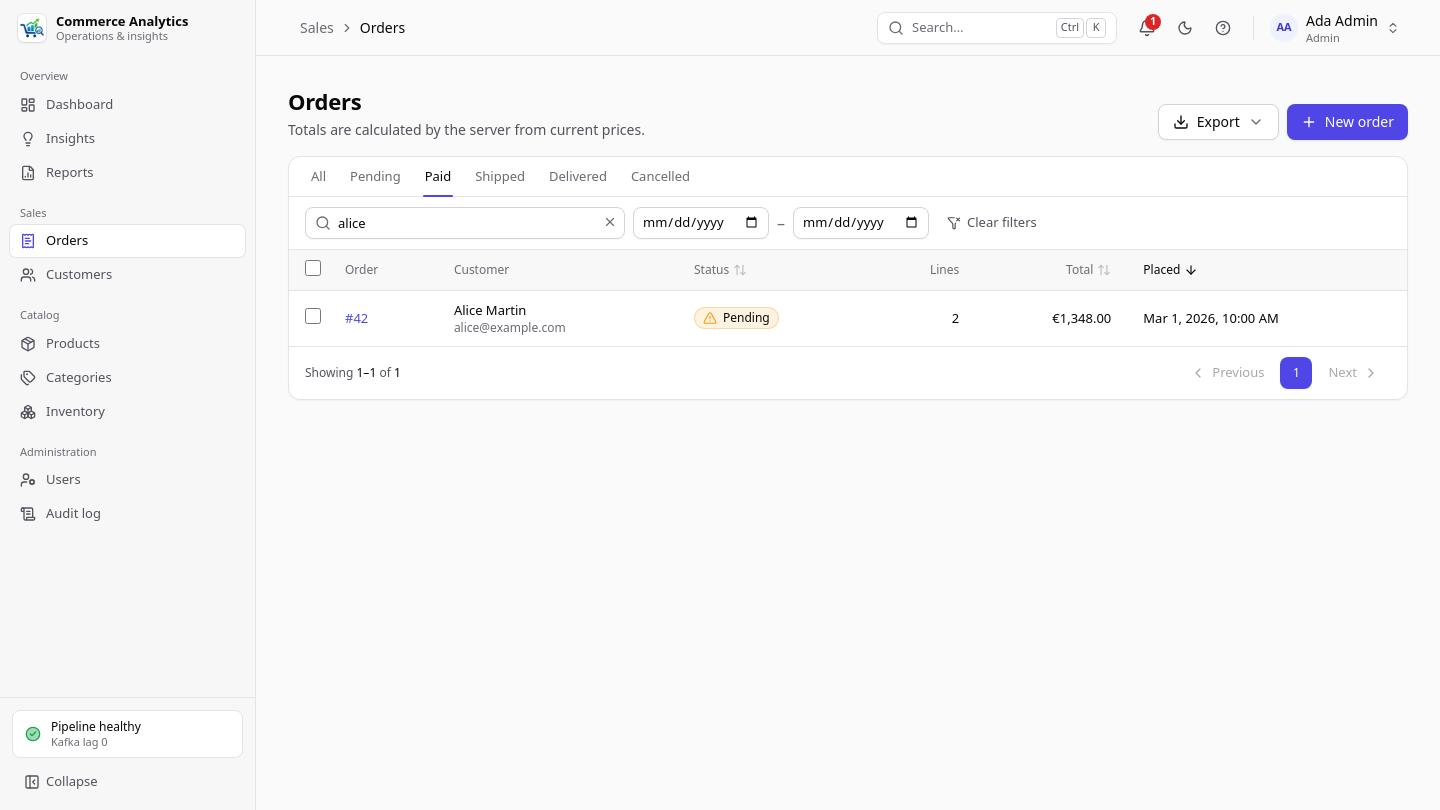
it: export menu › downloads the list with the filters on screen
Expected: the table named "Orders" is shown, left=289, top=250, right=1407, bottom=346
Click the button "Export" at (1218, 122), box left=1158, top=104, right=1279, bottom=140
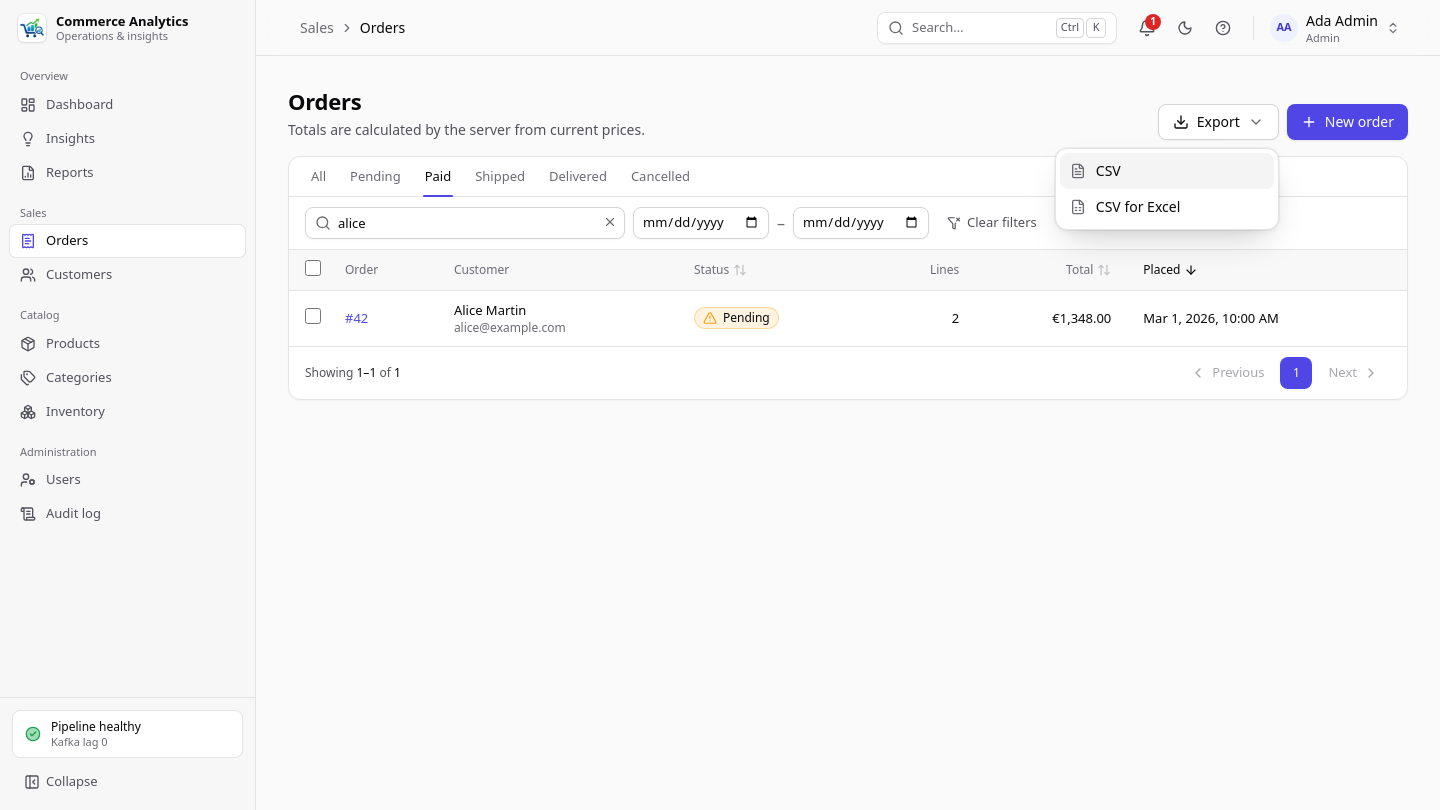
Click the menu item "CSV for Excel" at (1167, 206), box left=1060, top=188, right=1274, bottom=224
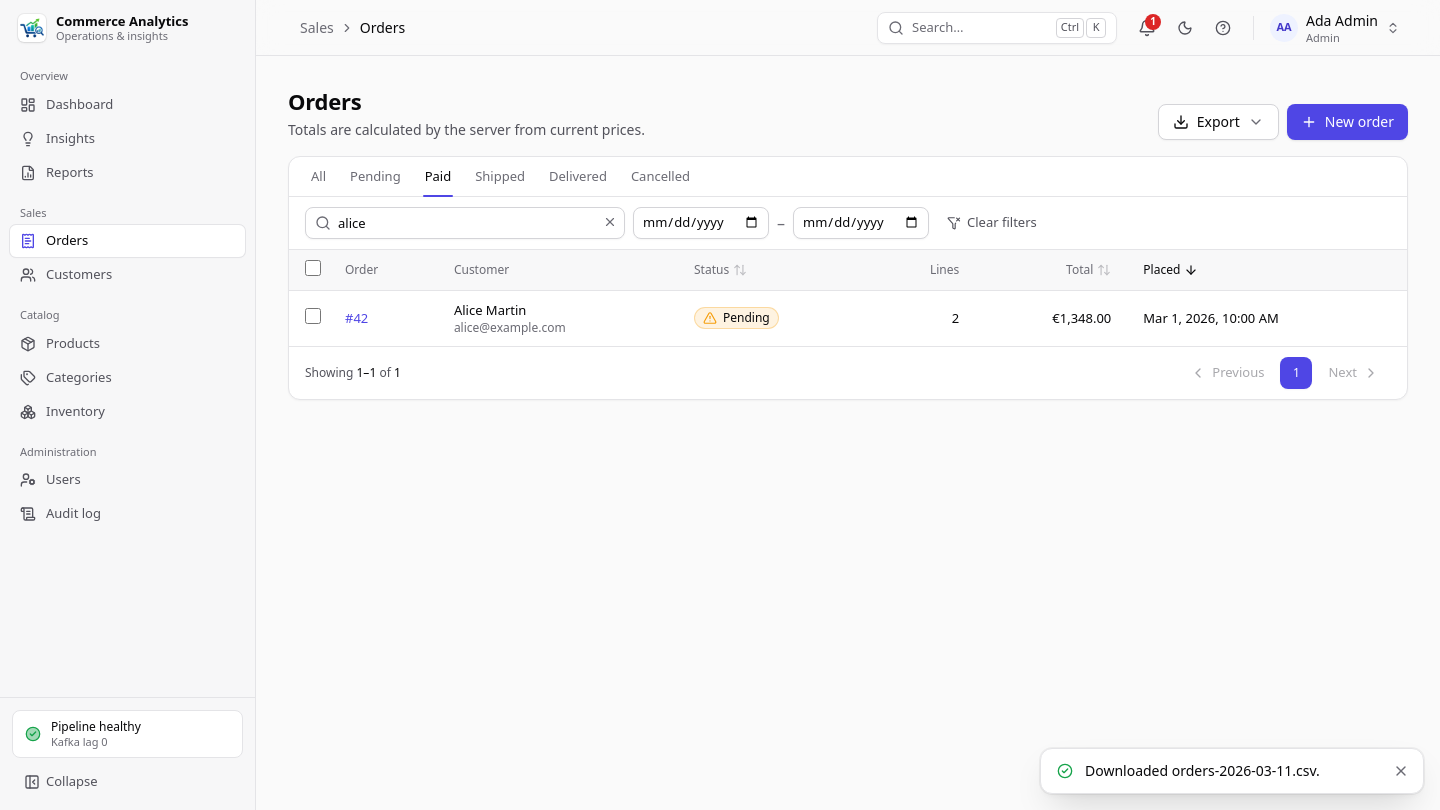
Expected: the text "Downloaded orders-2026-03-11.csv." is shown, left=1085, top=761, right=1320, bottom=780
